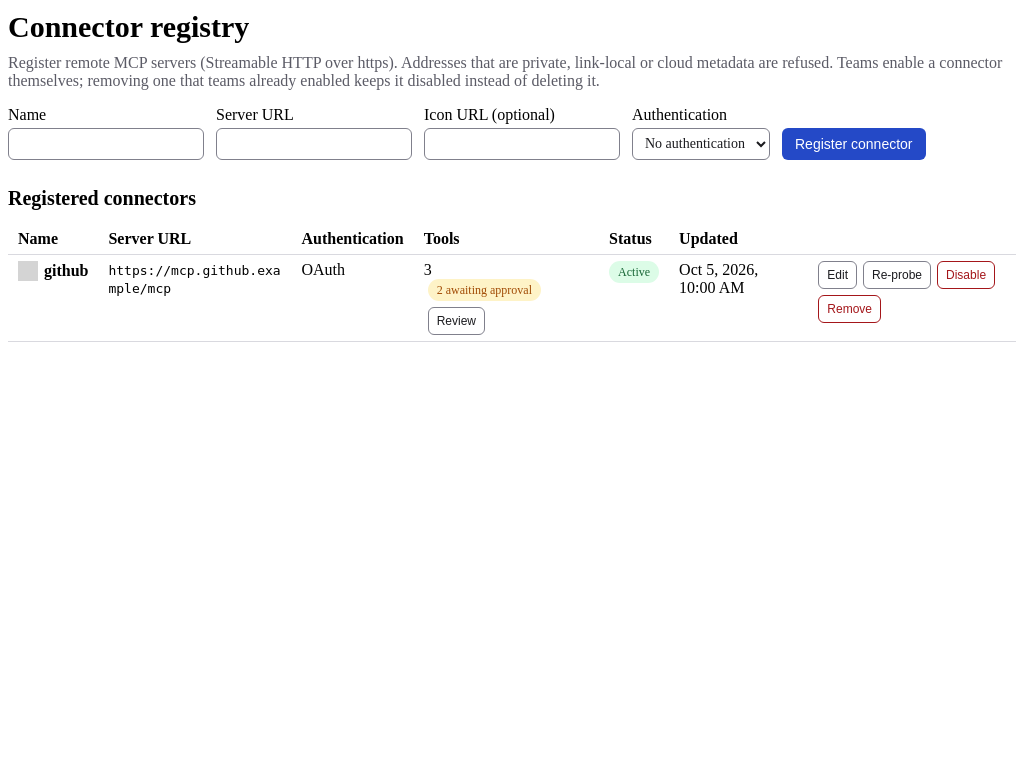
Scenario: Tool drift re-approval (KOBE-102) › shows a visibility and template change of a tool (KOBE-434 review M4)
The image size is (1024, 768).
Click the button "Review".
click(456, 320)  # box [428,306,485,334]
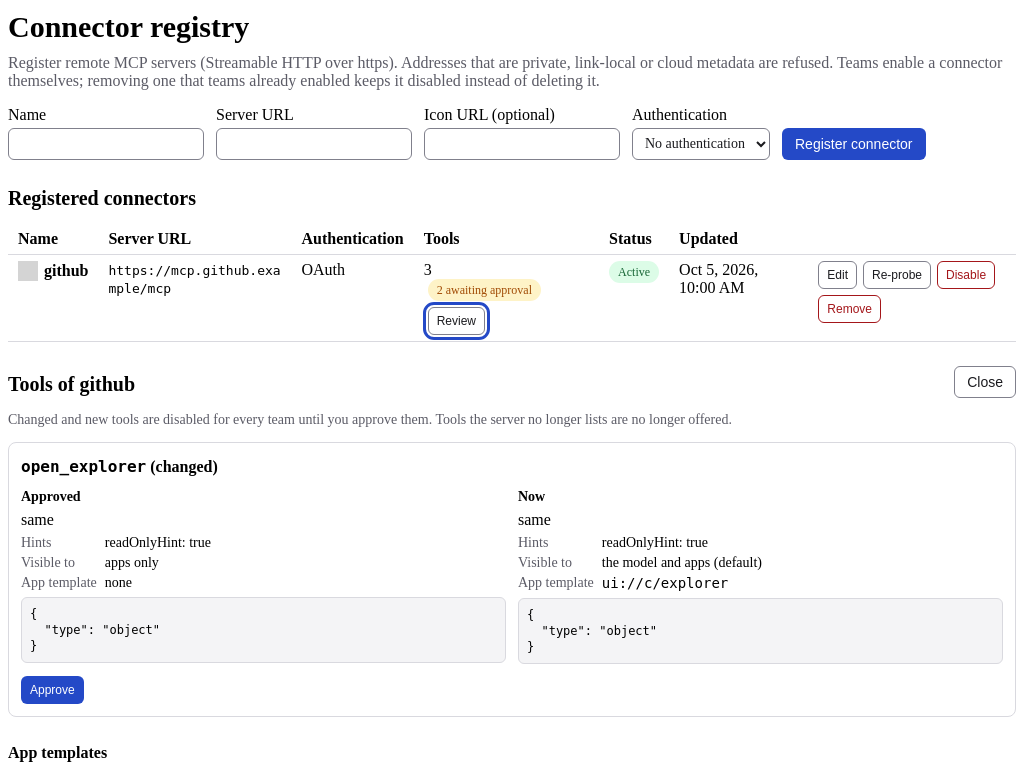
Now the text "apps only" is shown, box [105,554,159,570]
Now the text "the model and apps (default)" is shown, box [602,554,762,570]
Now the text "ui://c/explorer" is shown, box [602,574,728,590]
